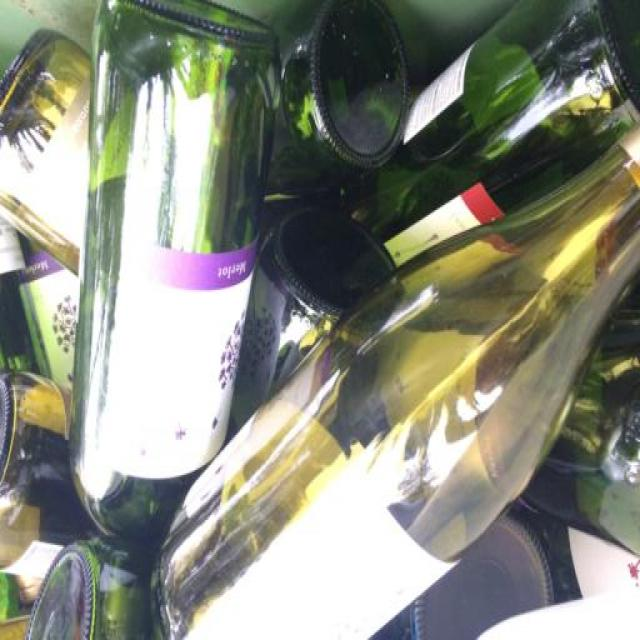glass: (141, 141, 628, 621), (89, 6, 240, 597), (398, 4, 635, 277), (279, 3, 425, 219)
heap: (5, 2, 640, 640)
